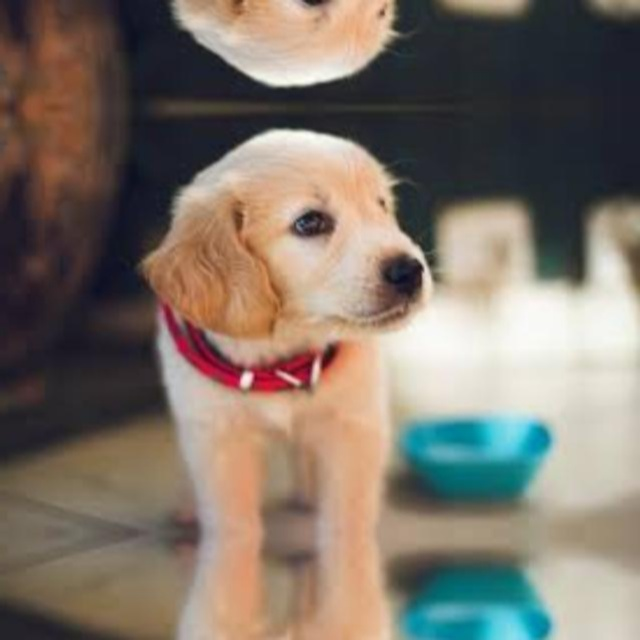dog: (139, 136, 439, 532), (139, 532, 439, 640), (139, 0, 439, 78)
